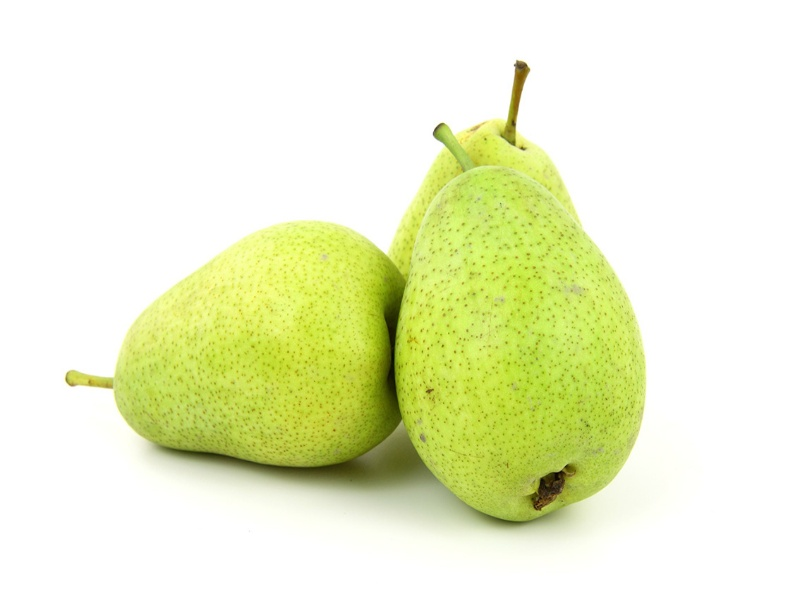Pera: (396, 124, 647, 524), (65, 222, 404, 470), (392, 59, 582, 296)
